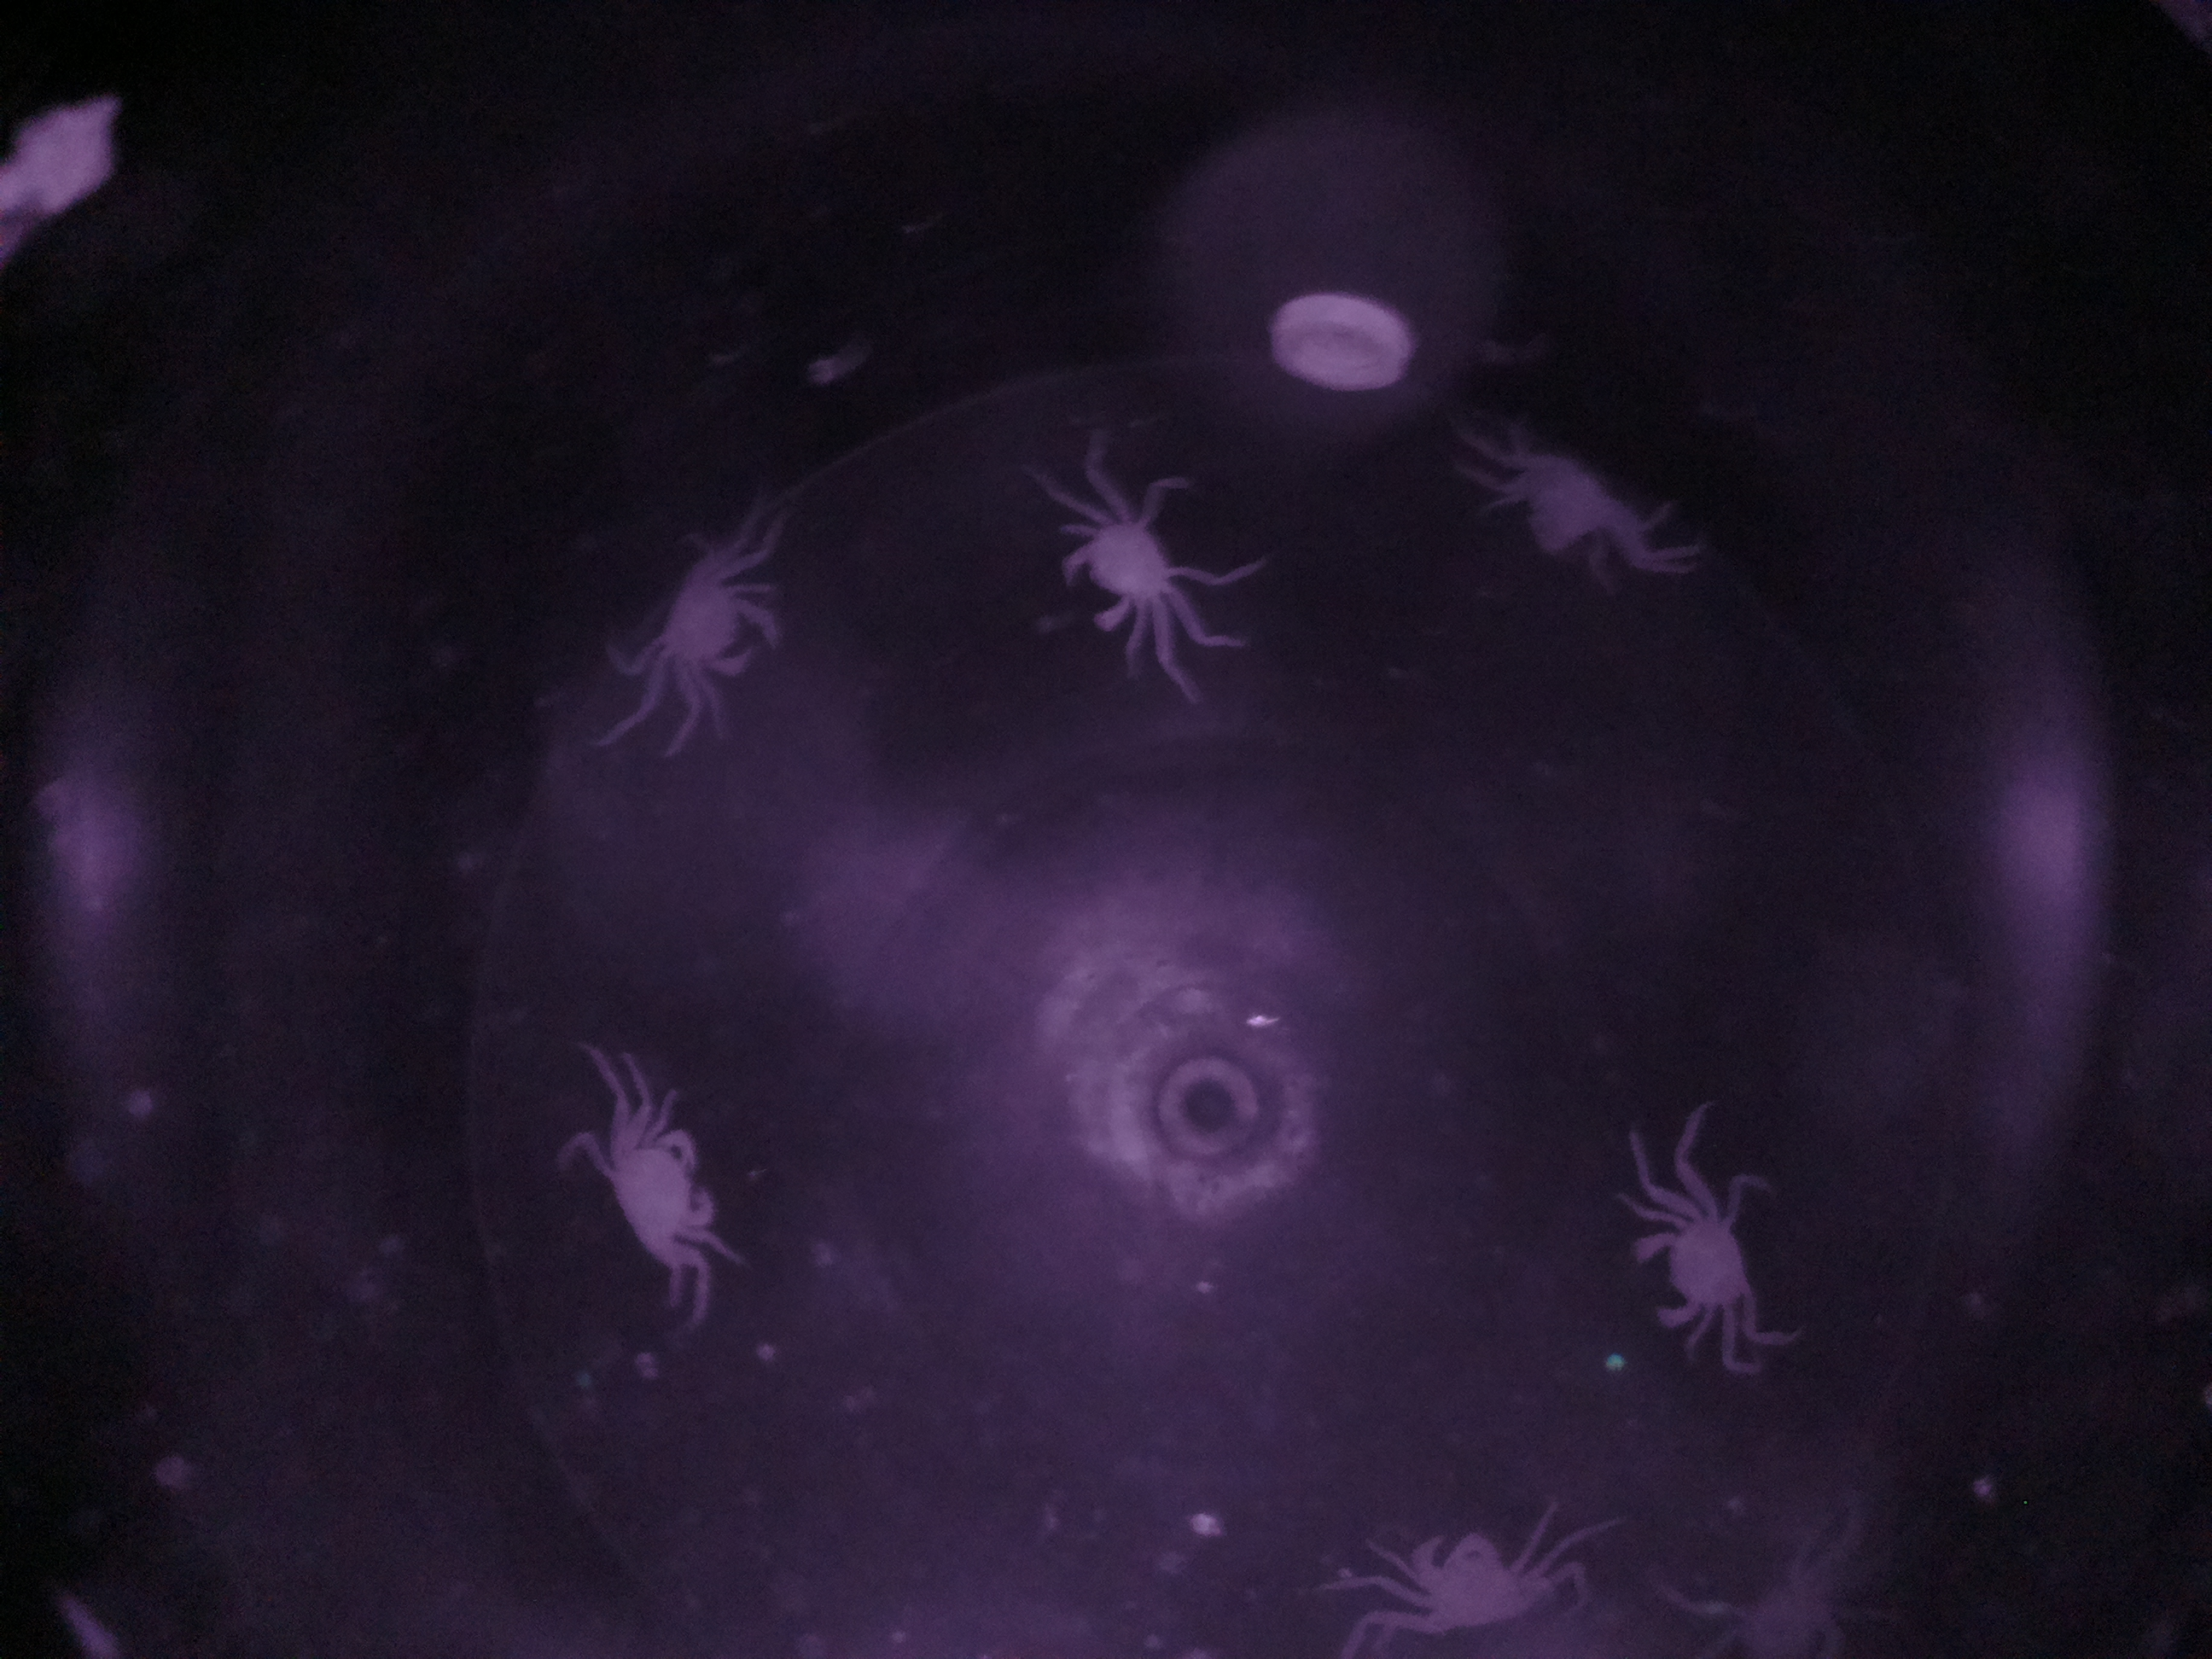Crab: (1043, 467, 1233, 655), (1620, 1175, 1780, 1361), (639, 537, 792, 711), (1374, 1516, 1571, 1647), (596, 1105, 737, 1281)
